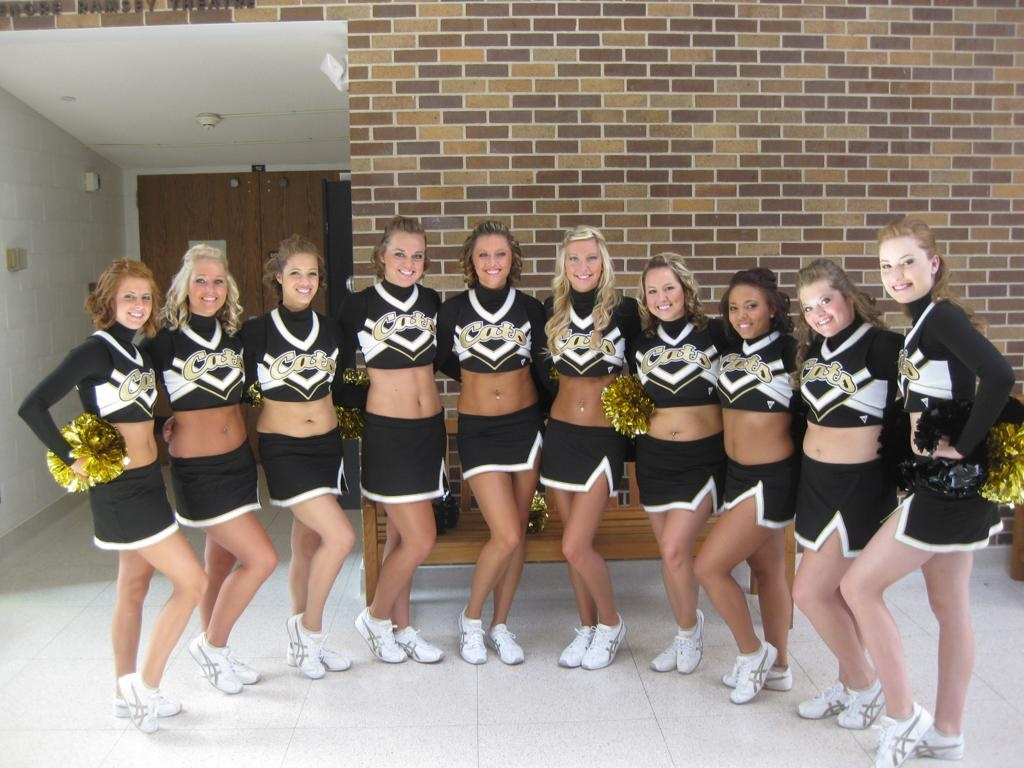human_face: (879, 238, 933, 304), (798, 282, 848, 338), (728, 286, 772, 338), (187, 262, 229, 316), (386, 232, 426, 288), (114, 274, 152, 330), (644, 268, 684, 320), (282, 250, 318, 306), (473, 236, 513, 286), (565, 240, 603, 290)
